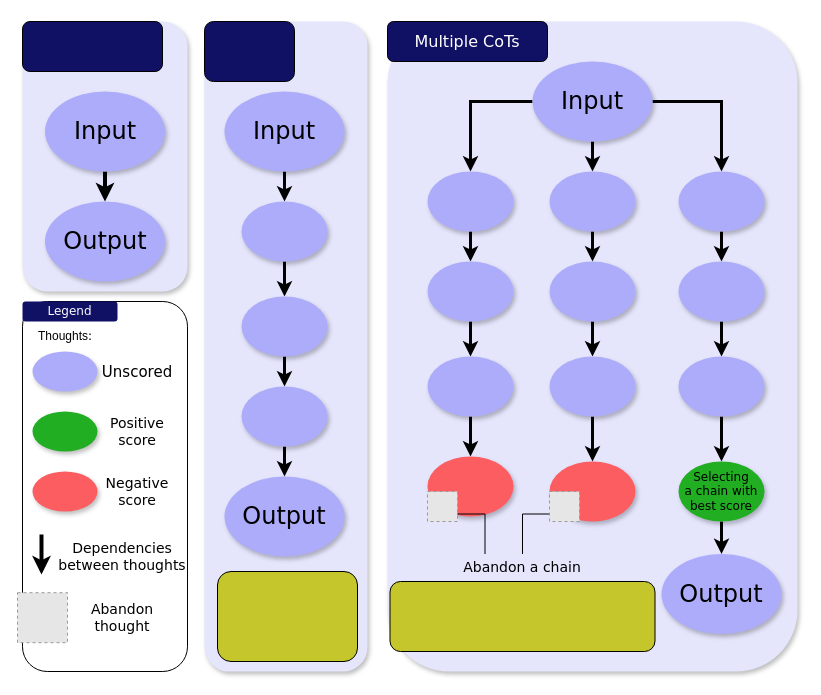
This 821x695 diagram has some shape labels left out. Grey dashed boxes stand in for pictures. The centre of each missing label's shape, as x and y in pixels:
"Basic Input- Output(IO)" goes at (92,46).
"Chain-of- Thought (CoT)" goes at (249,51).
"Key novelty(beyond CoT): Harnessing multiple independent chains of thoughts" goes at (522,616).
"Key novelty: Intermediate LLM thoughts within a chain" goes at (287,616).
